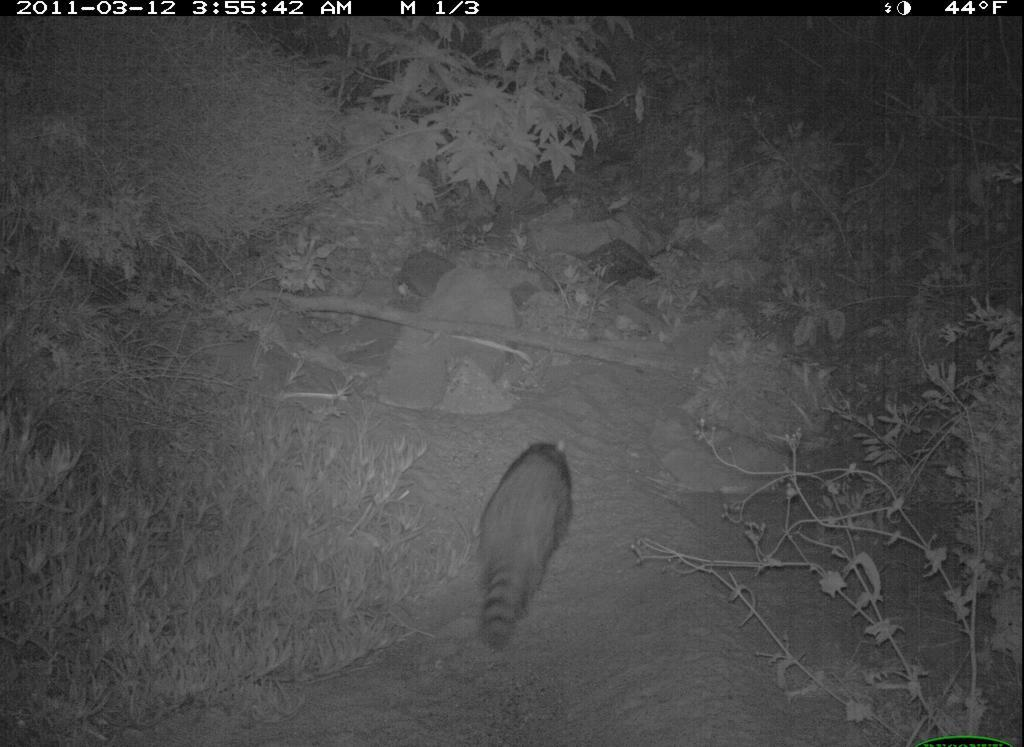raccoon: (465, 429, 597, 664)
